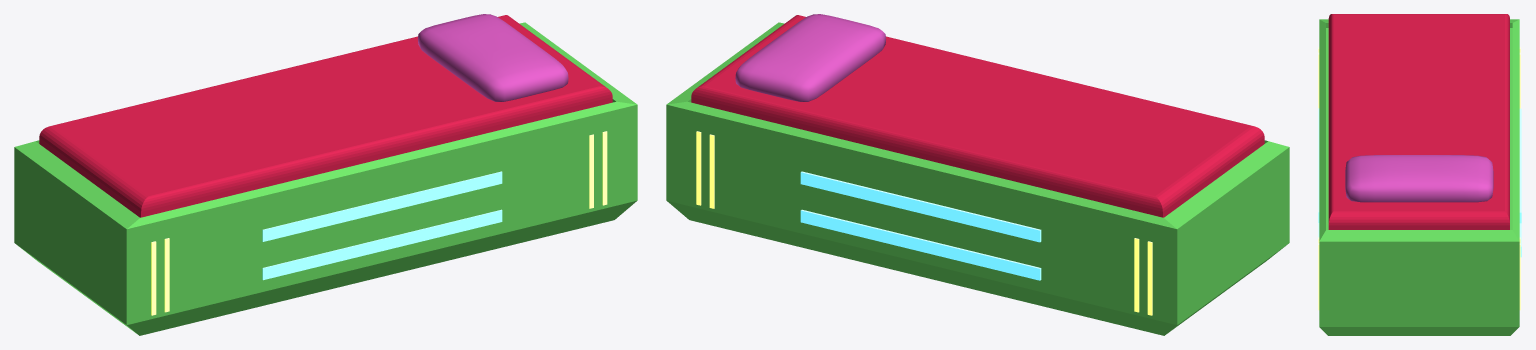
The model's file is Cama.fbx.
3 views of the same model, side by side, from view 1: azimuth 30°, elevation 25°; view 2: azimuth 150°, elevation 25°; view 3: azimuth 270°, elevation 25° (orthographic). The views are drawn at different scales.
Parts seen in each view (by area): view 1: Estrutura, Cama, Travesseiro, Iluminadores 1, Iluminadores 2; view 2: Estrutura, Cama, Travesseiro, Iluminadores 1, Iluminadores 2; view 3: Cama, Estrutura, Travesseiro, Iluminadores 1, Iluminadores 2.
Part boxes in pixels (x1,y1,x2,y2): Estrutura: (14, 22, 637, 335); Cama: (39, 15, 612, 217); Travesseiro: (417, 14, 568, 101); Iluminadores 1: (262, 171, 502, 280); Iluminadores 2: (151, 131, 607, 315); Estrutura: (666, 22, 1289, 335); Cama: (691, 15, 1264, 217); Travesseiro: (735, 14, 886, 101); Iluminadores 1: (800, 171, 1041, 280); Iluminadores 2: (696, 131, 1152, 315); Cama: (1328, 14, 1509, 229); Estrutura: (1319, 19, 1519, 335); Travesseiro: (1345, 155, 1493, 202); Iluminadores 1: (1318, 108, 1521, 257); Iluminadores 2: (1318, 47, 1520, 310).
Bounding box in the file's own units: 210 × 61.65 × 81.26.
